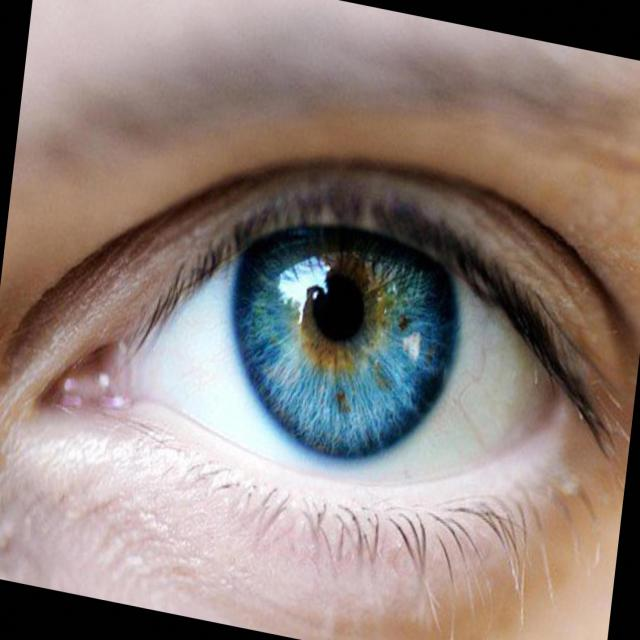Healthy-Eye: (37, 164, 590, 564)
